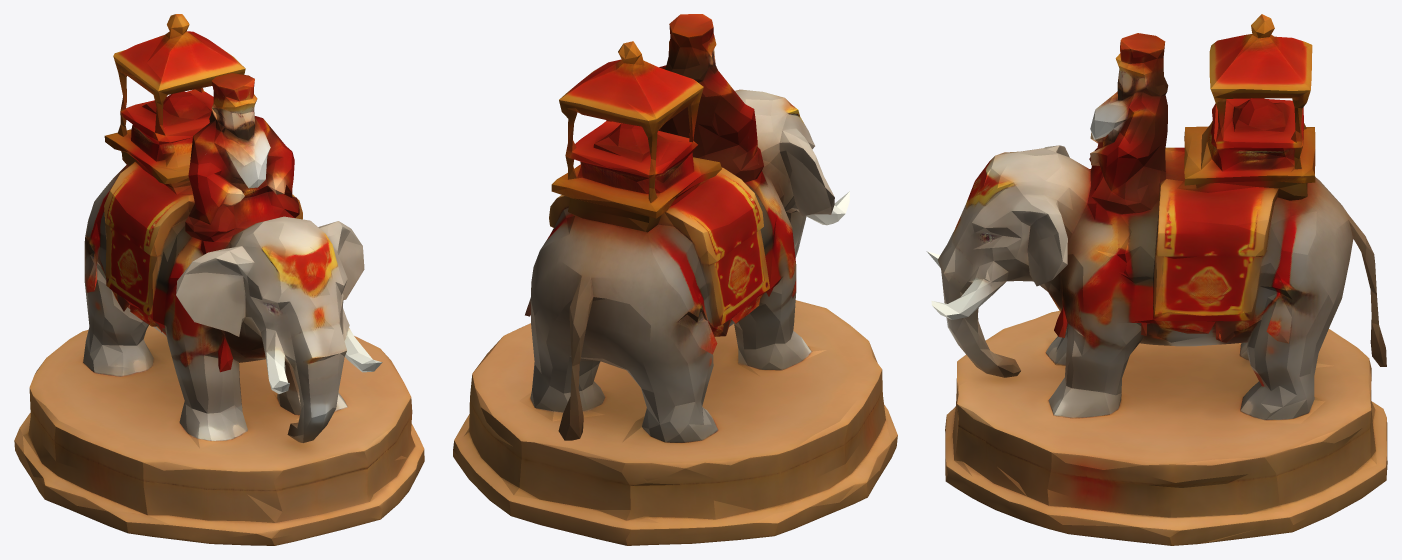
The model's file is elephant_red.glb.
3 views of the same model, side by side, from view 1: azimuth 30°, elevation 25°; view 2: azimuth 150°, elevation 25°; view 3: azimuth 270°, elevation 25° (orthographic). The views are drawn at different scales.
Visible parts, largest first — view 1: Mesh; view 2: Mesh; view 3: Mesh.
Boxes of the visible parts, box(x1,y1,x2,y2) form: Mesh: box(14, 14, 424, 545); Mesh: box(453, 14, 897, 545); Mesh: box(926, 14, 1387, 545).
Size of the model in its own units: 1.69 by 1.88 by 1.79.
Materials: 1 (1 with a texture image).
